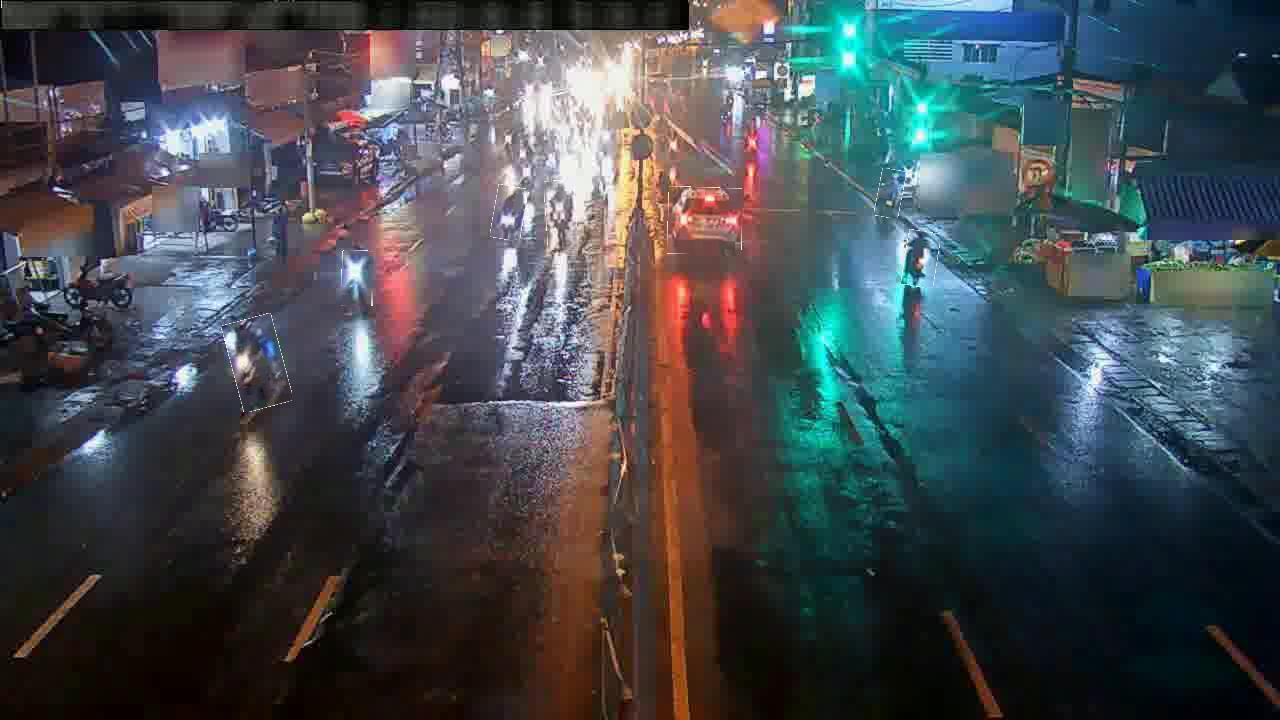container: (668, 187, 743, 255)
motorbike: (227, 316, 288, 411), (545, 181, 577, 251), (903, 230, 939, 287), (492, 185, 526, 240), (342, 251, 374, 307), (876, 169, 904, 219)
